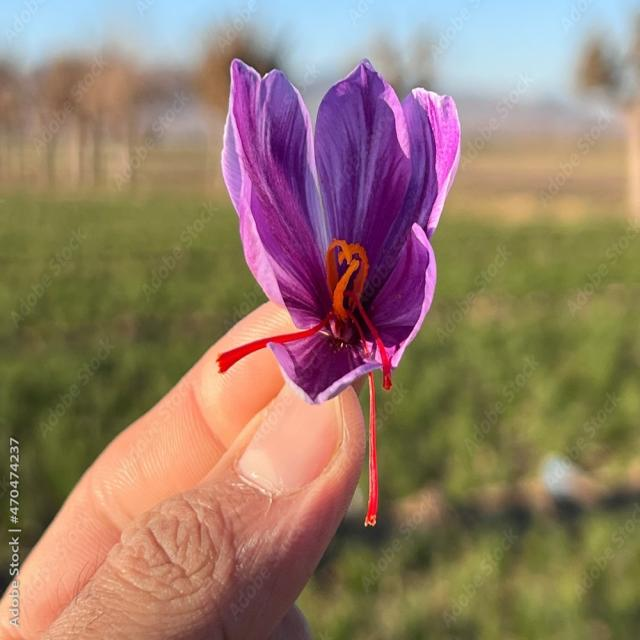saffron open: (219, 60, 460, 402)
